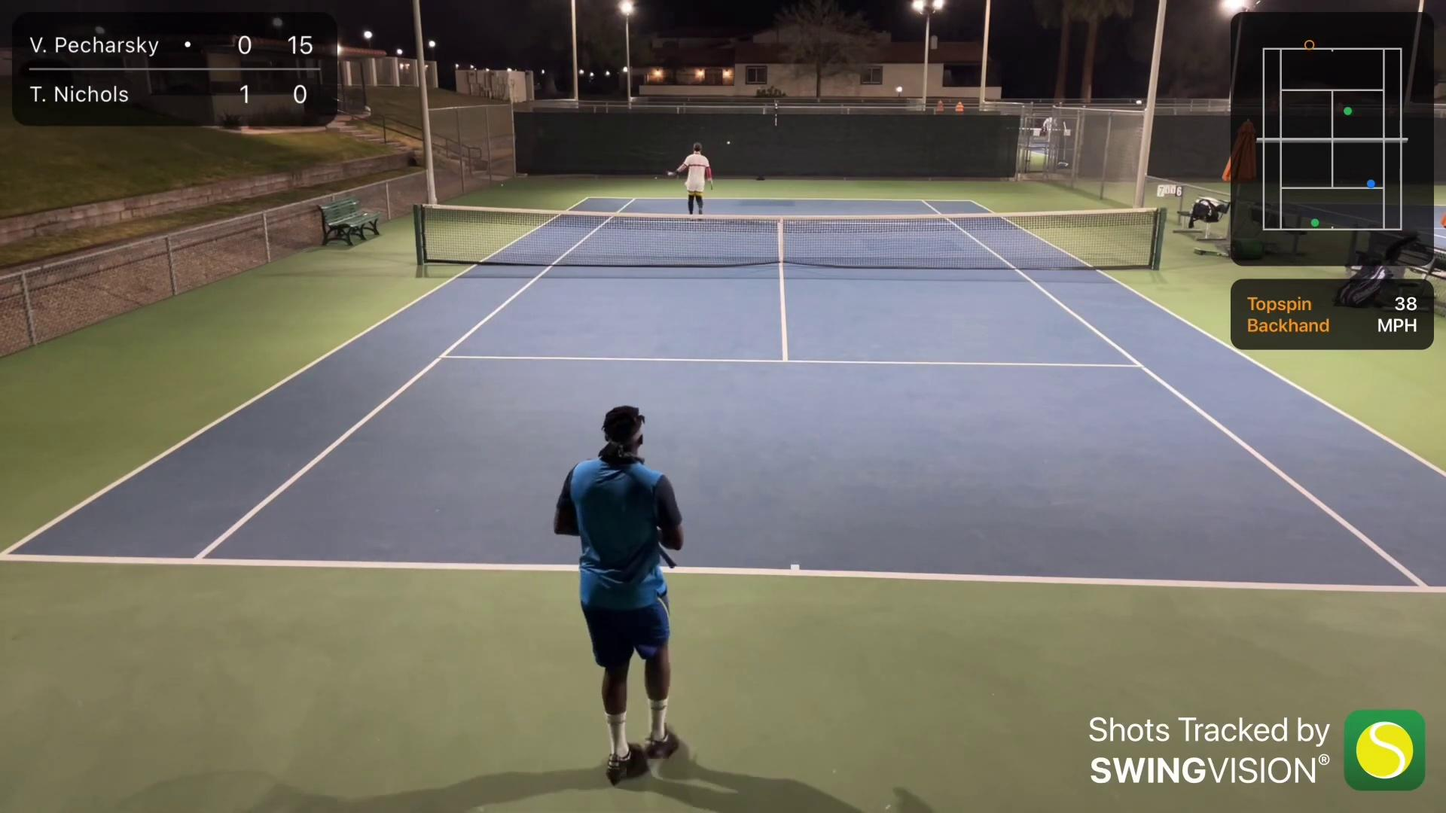ball: (724, 139, 733, 146), (499, 182, 506, 188), (653, 175, 659, 182)
